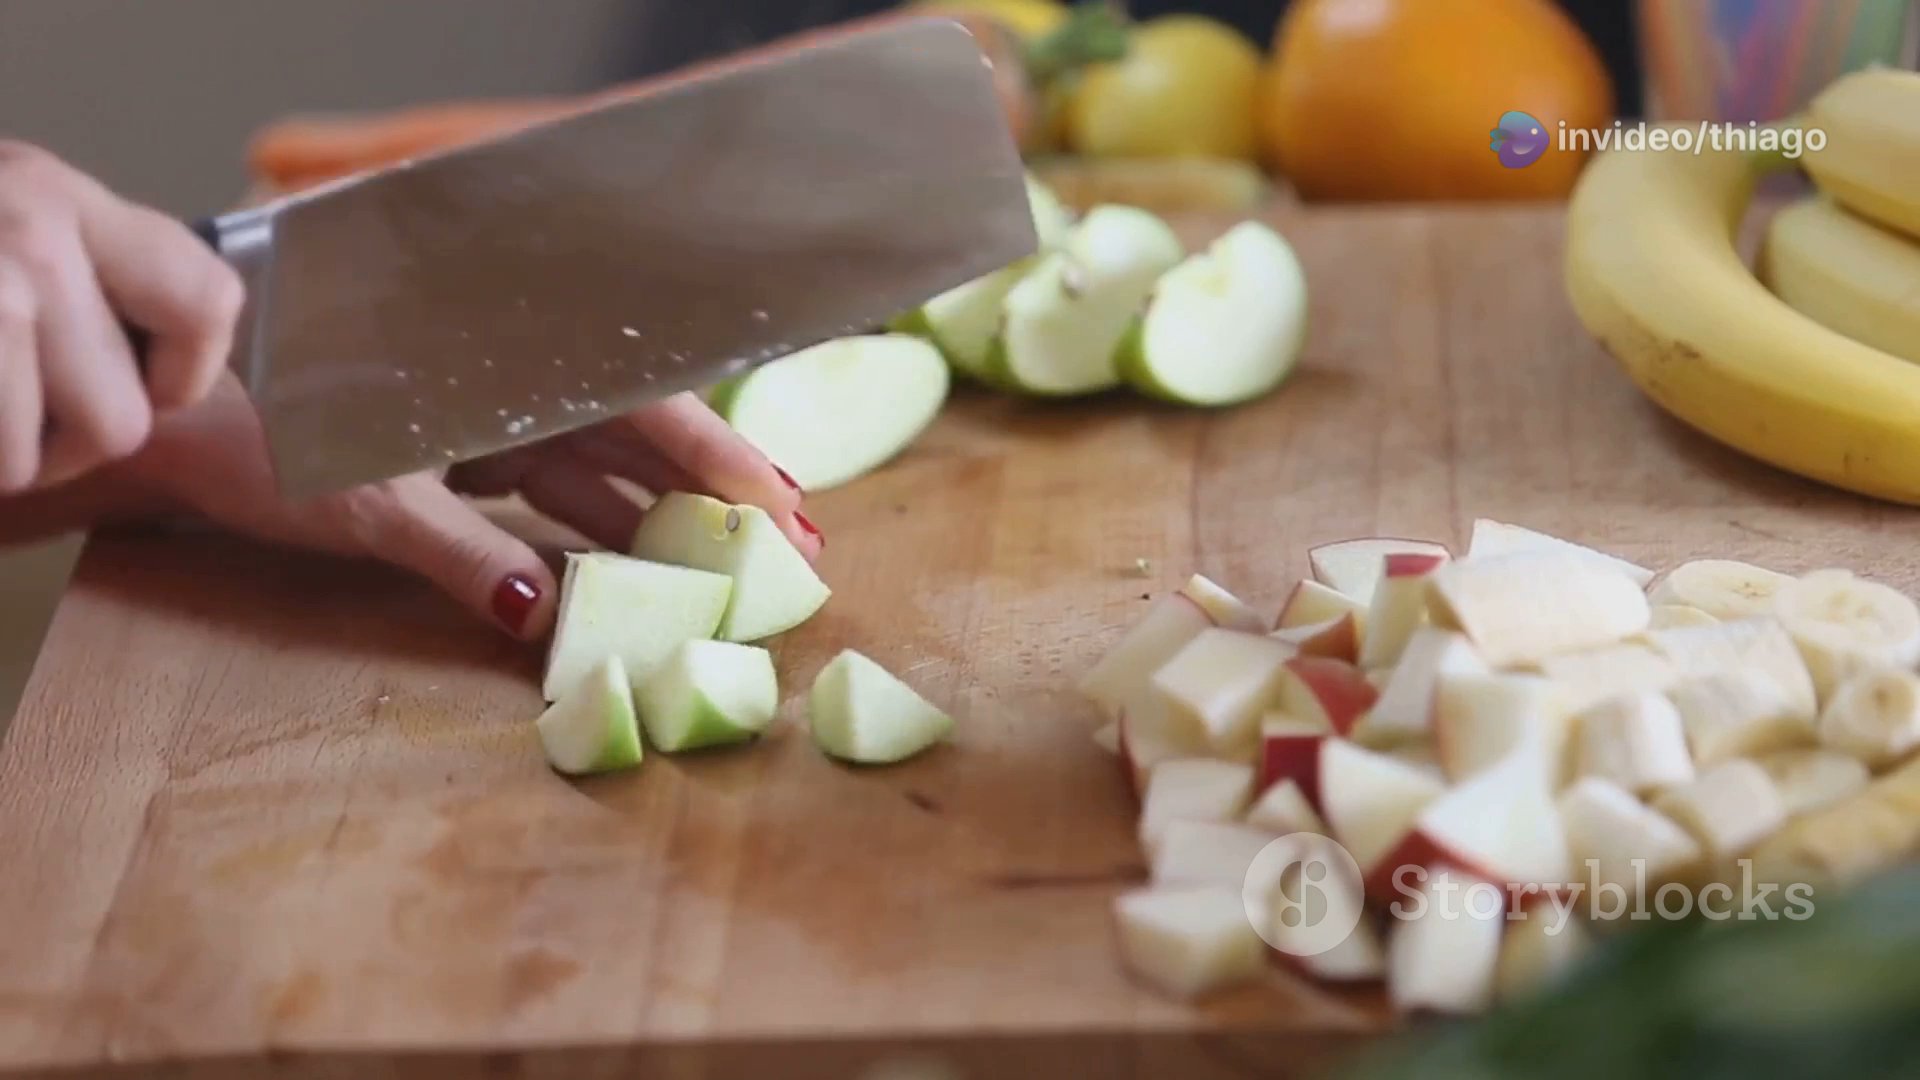cortante: (229, 15, 1039, 505)
